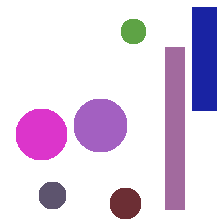circle: (74, 99, 126, 151), (16, 109, 66, 159), (110, 188, 140, 218), (39, 182, 65, 208), (121, 19, 145, 43)
rectangle: (165, 47, 184, 209), (192, 7, 216, 110)
